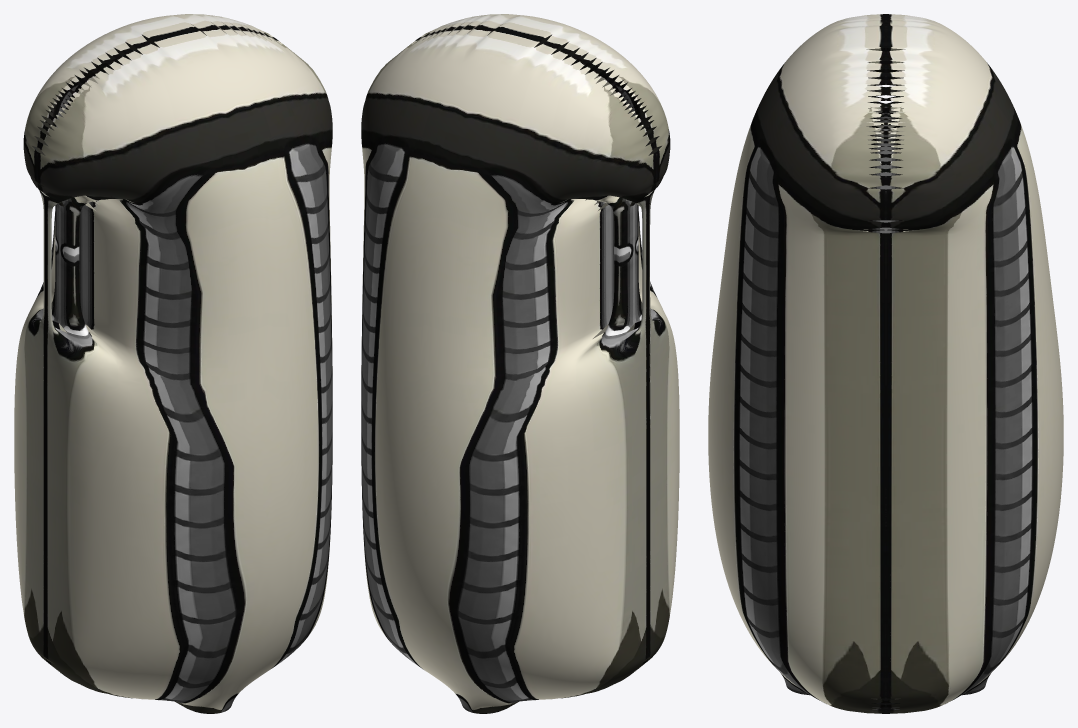
The model's file is rear_service_tower.glb.
3 views of the same model, side by side, from view 1: azimuth 30°, elevation 25°; view 2: azimuth 150°, elevation 25°; view 3: azimuth 270°, elevation 25° (orthographic).
Parts seen in each view (by area): view 1: rear_service_tower; view 2: rear_service_tower; view 3: rear_service_tower.
Boxes of the visible parts, box(x1,y1,x2,y2) form: rear_service_tower: box(14, 14, 332, 713); rear_service_tower: box(361, 14, 679, 713); rear_service_tower: box(708, 14, 1063, 713).
Bounding box in the file's own units: 0.9758 × 2.18 × 1.08.
1 material, 1 textured.
